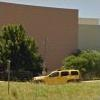Tree: (2, 14, 50, 89)
